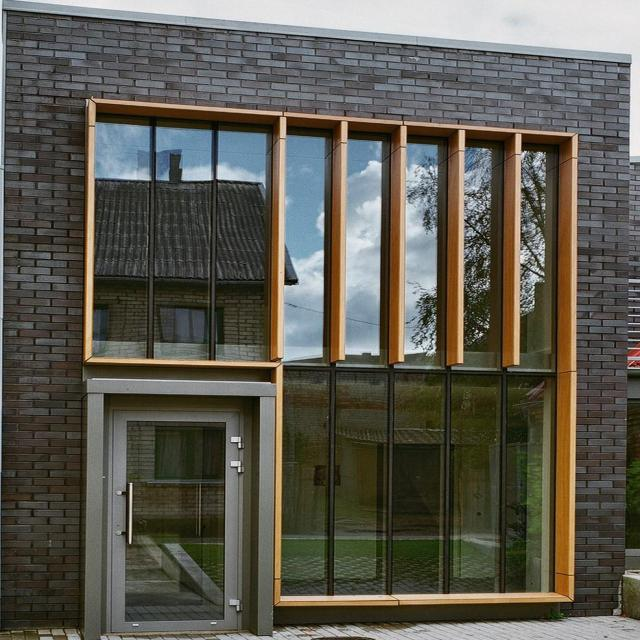door: (112, 407, 247, 632)
window: (93, 110, 559, 595)
